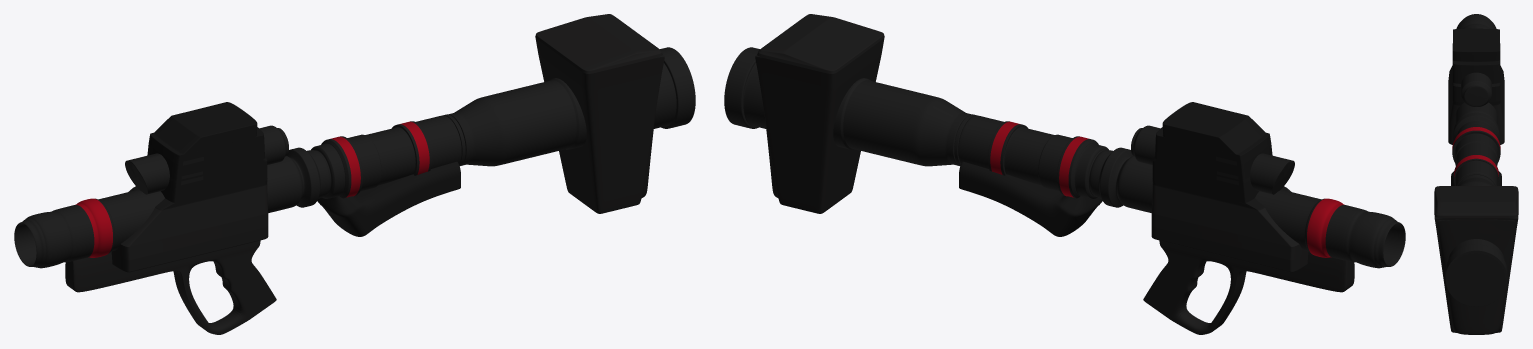
File: Launcher.fbx
The picture shows the model from 3 angles, left to right: view 1: azimuth 30°, elevation 25°; view 2: azimuth 150°, elevation 25°; view 3: azimuth 270°, elevation 25°; orthographic projection. The views are drawn at different scales.
Visible parts, largest first — view 1: Base.002, ScopeMount)1.001, BackThingy.001, Handle.001, ShoulderRest.001, Scope.001; view 2: Base.002, ScopeMount)1.001, BackThingy.001, Handle.001, ShoulderRest.001, Scope.001; view 3: Base.002, BackThingy.001, ScopeMount)1.001, Scope.001, ShoulderRest.001.
Boxes of the visible parts, bbox=[...] form: Base.002: bbox=[14, 47, 695, 268]; ScopeMount)1.001: bbox=[111, 102, 268, 272]; BackThingy.001: bbox=[535, 14, 664, 213]; Handle.001: bbox=[65, 240, 276, 334]; ShoulderRest.001: bbox=[317, 161, 460, 236]; Scope.001: bbox=[125, 125, 288, 194]; Base.002: bbox=[724, 47, 1405, 268]; ScopeMount)1.001: bbox=[1151, 102, 1308, 272]; BackThingy.001: bbox=[755, 14, 884, 213]; Handle.001: bbox=[1143, 240, 1354, 334]; ShoulderRest.001: bbox=[959, 161, 1102, 236]; Scope.001: bbox=[1131, 125, 1294, 194]; Base.002: bbox=[1445, 14, 1507, 306]; BackThingy.001: bbox=[1434, 186, 1518, 334]; ScopeMount)1.001: bbox=[1448, 28, 1504, 144]; Scope.001: bbox=[1461, 26, 1491, 106]; ShoulderRest.001: bbox=[1451, 171, 1501, 185].
Bounding box in the file's own units: 339 × 106 × 48.37.
